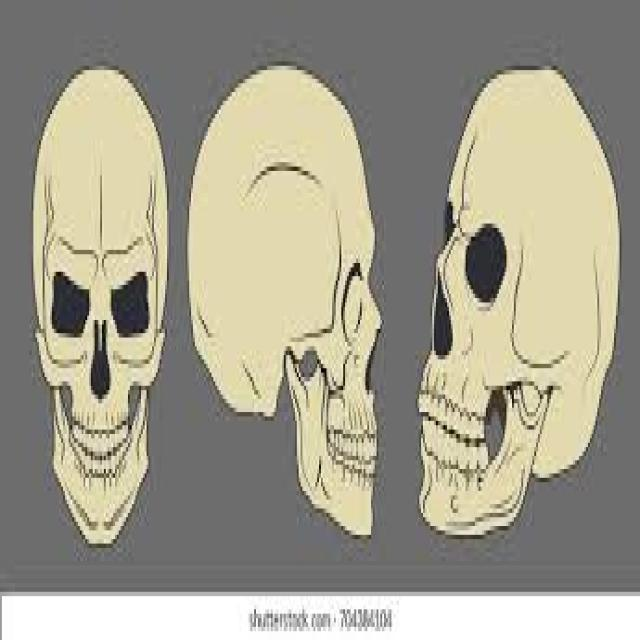skull: (410, 59, 628, 546)
